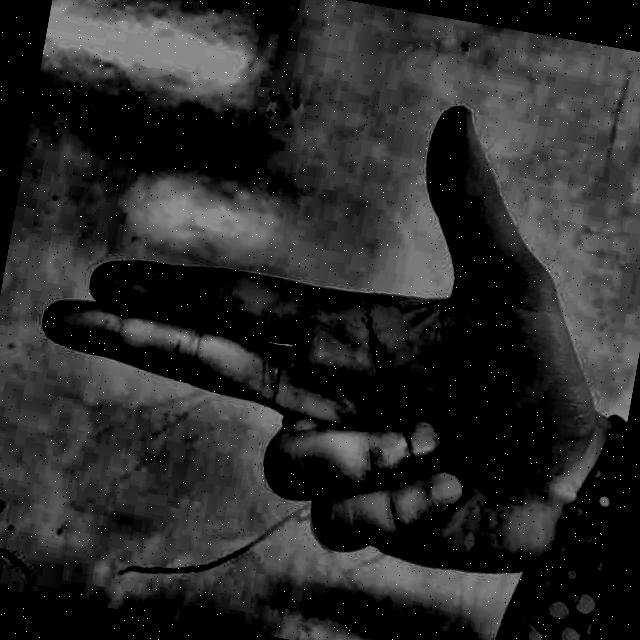Jha: (0, 1, 640, 634)
